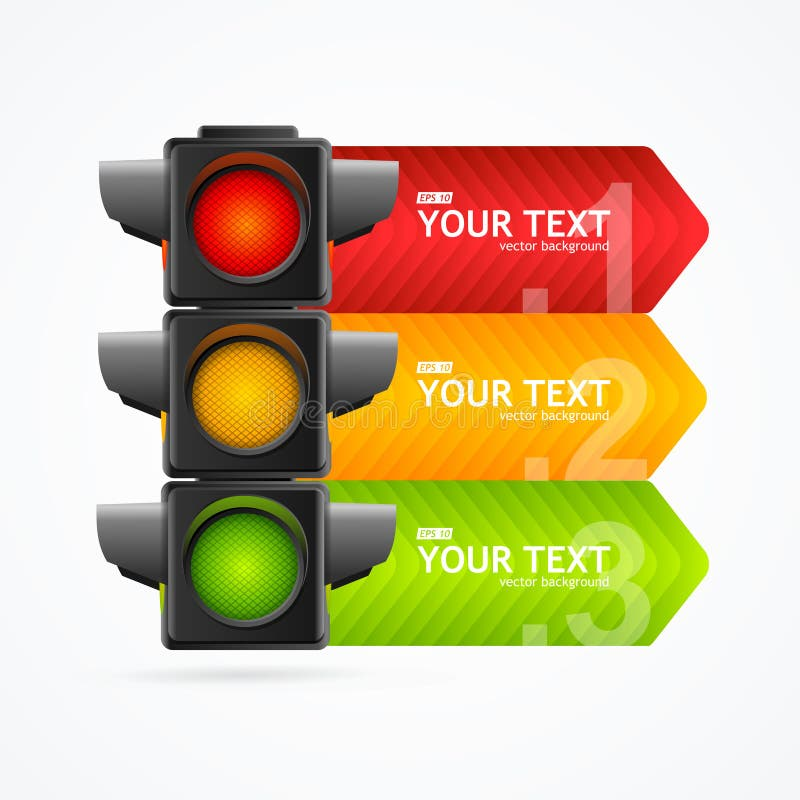TraficLight: (72, 113, 421, 657)
